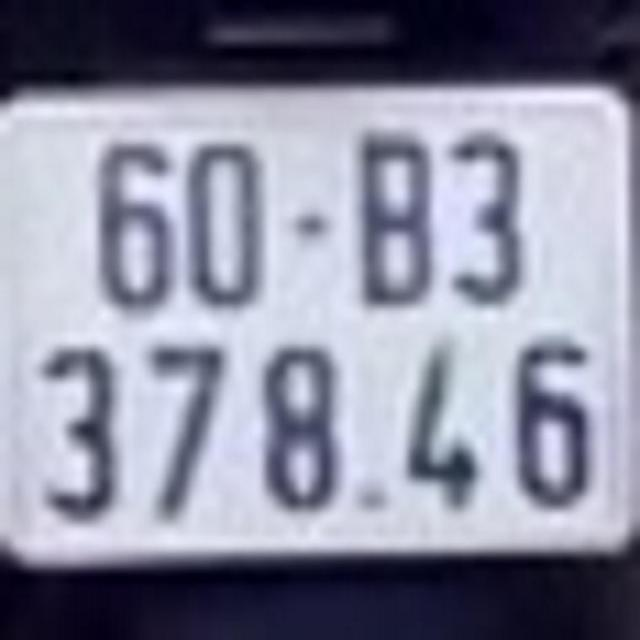0: (181, 132, 270, 308)
3: (444, 116, 534, 311), (26, 337, 121, 521)
4: (398, 327, 485, 516)
6: (89, 134, 174, 314), (514, 330, 600, 507)
7: (142, 326, 228, 516)
8: (260, 331, 344, 511)
B: (350, 118, 436, 308)
